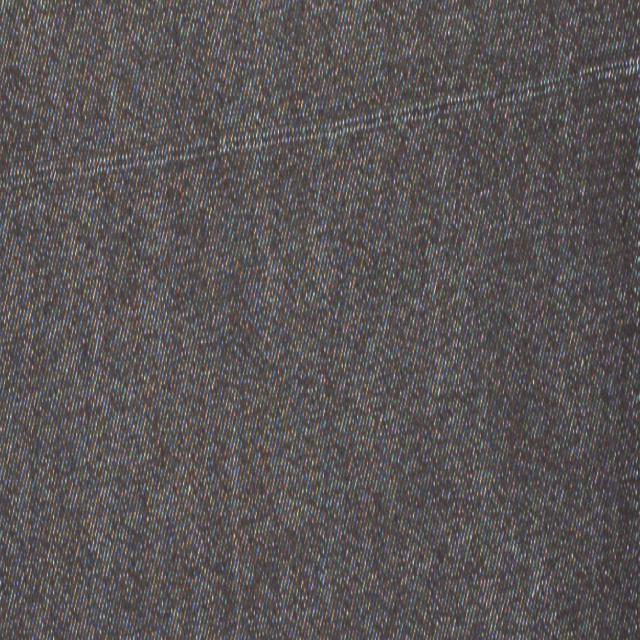Line: (0, 50, 640, 202)
